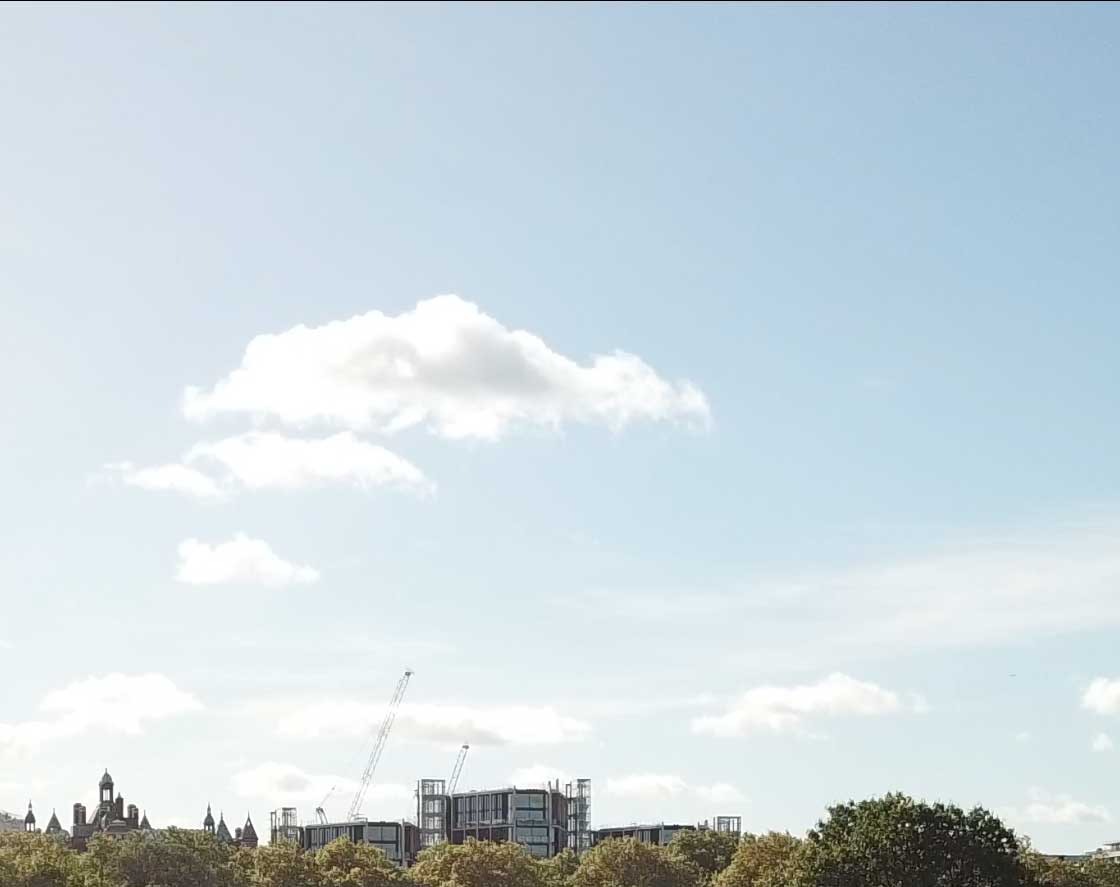cloud: (169, 283, 743, 459), (94, 423, 459, 522), (154, 523, 362, 616)
